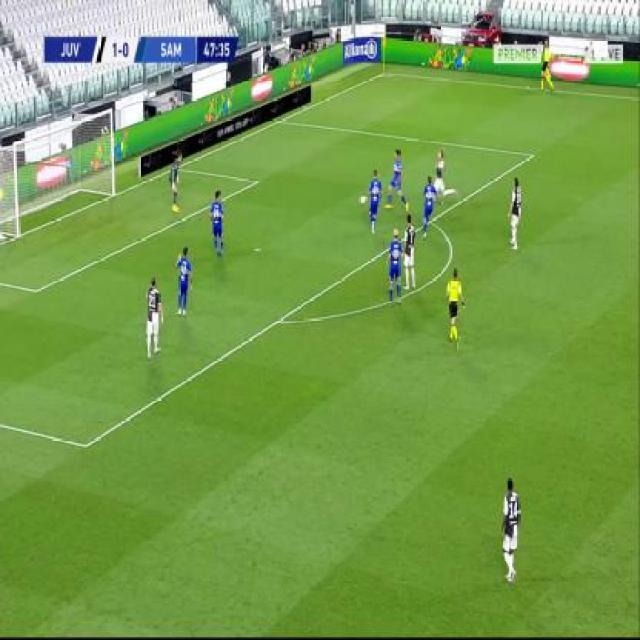ball: (359, 193, 367, 204)
player: (500, 472, 523, 583), (144, 272, 164, 360), (446, 265, 466, 348), (385, 148, 410, 214), (175, 246, 194, 317), (401, 213, 418, 292), (386, 226, 402, 308), (364, 169, 383, 234), (433, 149, 455, 205), (507, 174, 523, 250), (209, 188, 226, 259), (420, 172, 436, 237), (538, 37, 555, 93), (169, 147, 182, 209), (171, 198, 180, 214)
